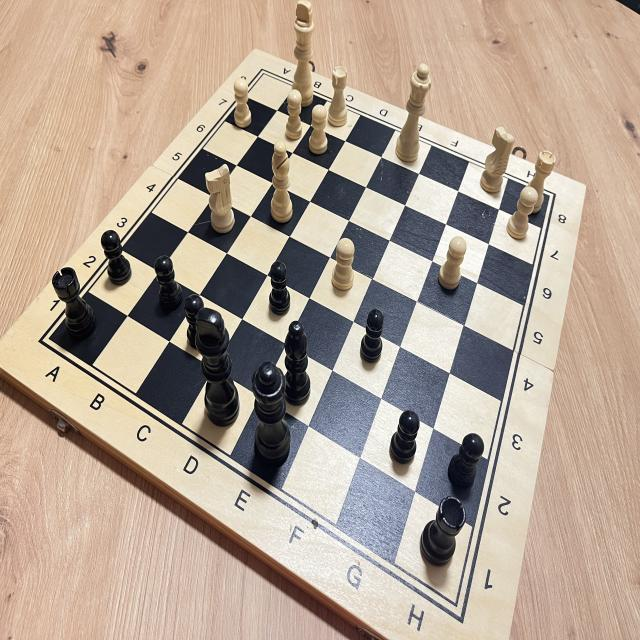black-bishop: (279, 315, 315, 414)
black-king: (188, 300, 246, 435)
black-pawn: (439, 426, 488, 503), (176, 283, 217, 361), (384, 403, 425, 471), (149, 245, 188, 316), (98, 222, 136, 292), (354, 306, 389, 369), (265, 254, 295, 322)
black-queen: (243, 354, 298, 474)
black-rook: (415, 488, 468, 584), (44, 262, 99, 342)
white-bishop: (263, 138, 298, 233)
white-king: (285, 0, 319, 111)
white-knight: (475, 123, 520, 200), (200, 158, 238, 239)
white-pawn: (503, 179, 541, 247), (434, 228, 470, 299), (326, 232, 359, 298), (304, 99, 333, 160), (280, 84, 307, 143), (232, 76, 256, 132)
white-queen: (391, 58, 433, 173)
white-rook: (516, 143, 560, 221), (324, 62, 354, 132)
